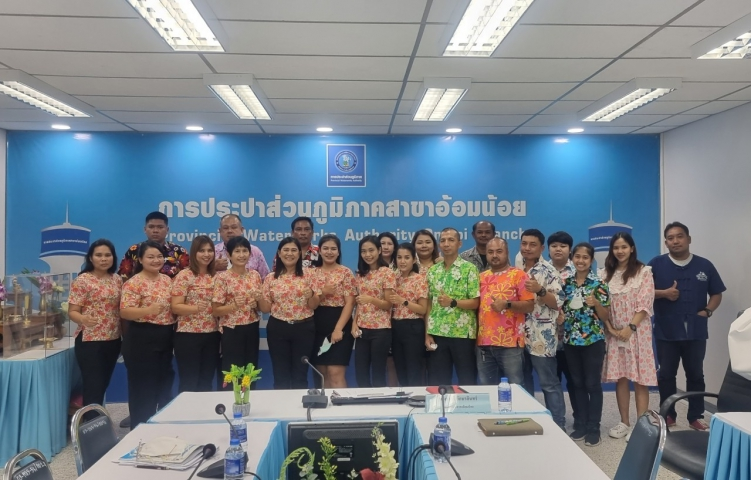text: (156, 192, 528, 222), (243, 228, 292, 242), (164, 227, 202, 244), (344, 227, 379, 241), (495, 229, 520, 240)
